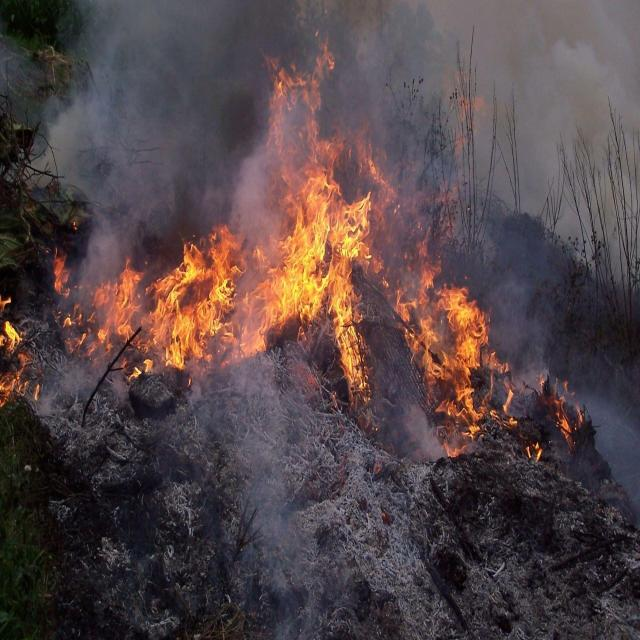Fire: (0, 60, 510, 388)
